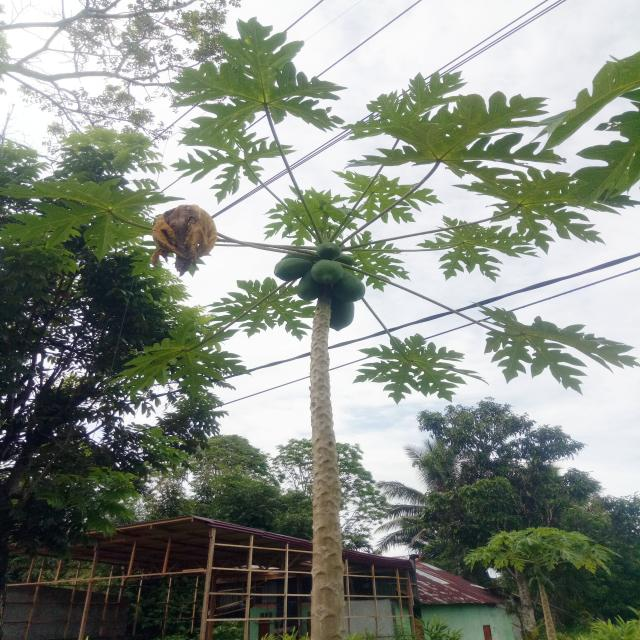Pepaya unrippen: (324, 294, 354, 332), (308, 256, 342, 284), (271, 258, 305, 284)
